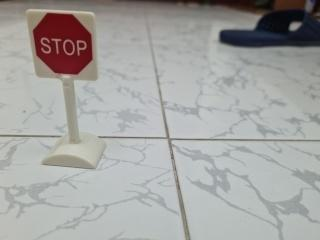stop: (18, 5, 107, 92)
